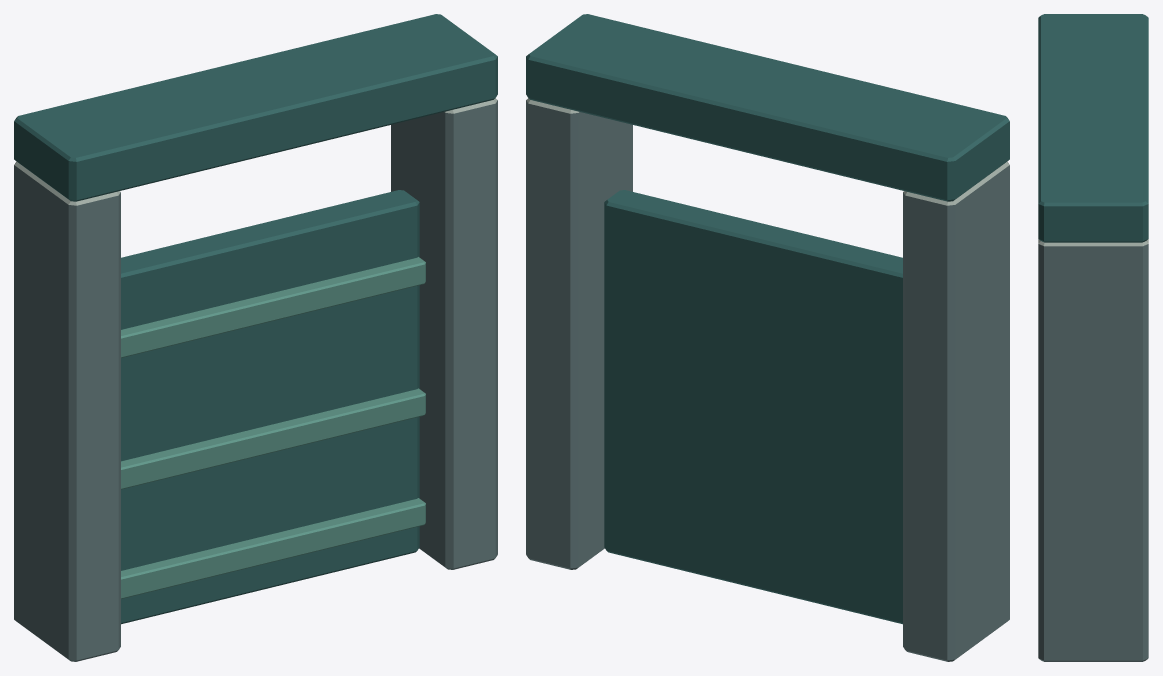
File: sluice.glb
3 views of the same model, side by side, from view 1: azimuth 30°, elevation 25°; view 2: azimuth 150°, elevation 25°; view 3: azimuth 270°, elevation 25° (orthographic). The views are drawn at different scales.
Visible parts, largest first — view 1: sluice__body, sluice__sluice-panel; view 2: sluice__body, sluice__sluice-panel; view 3: sluice__body.
Boxes of the visible parts, x1,y1,x2,y2 form: sluice__body: (14,14,497,661); sluice__sluice-panel: (121,190,425,624); sluice__body: (526,14,1009,661); sluice__sluice-panel: (604,190,902,624); sluice__body: (1038,14,1148,661).
Bounding box in the file's own units: 2.05 × 2.3 × 0.5.
